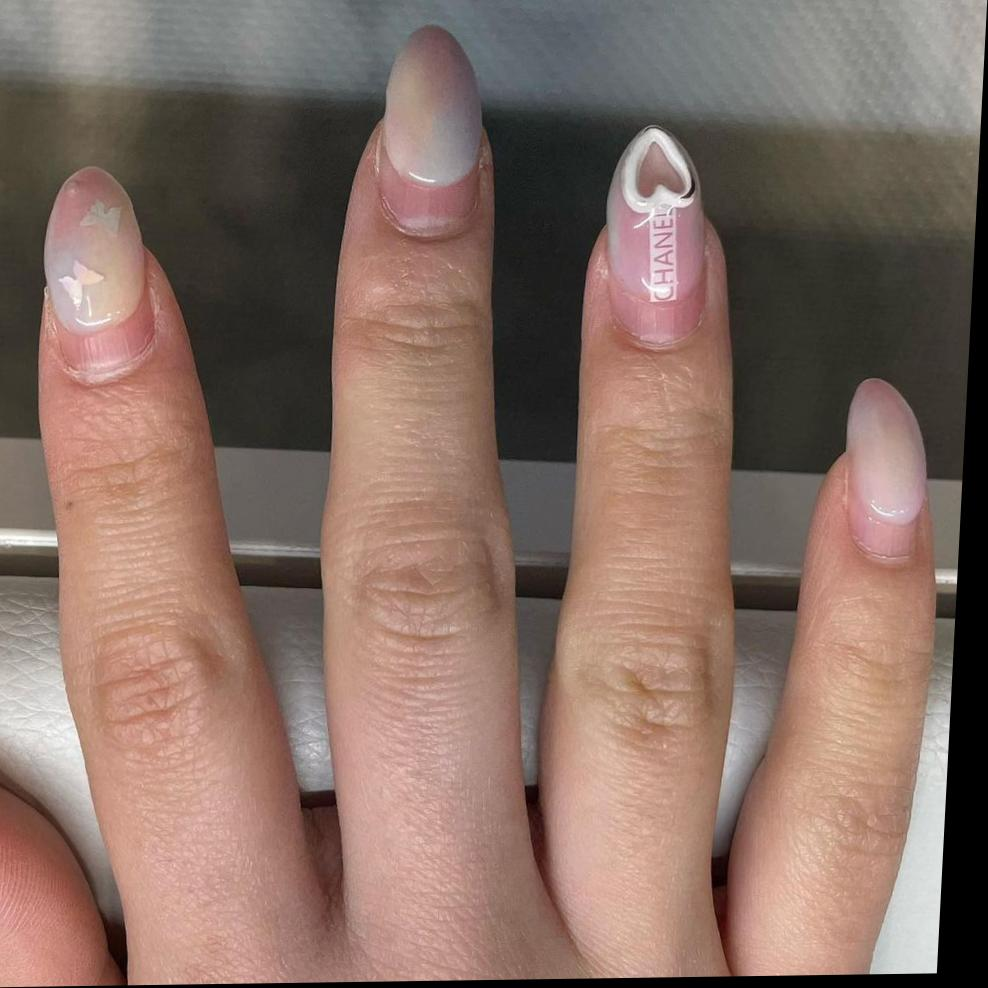nail: (36, 165, 168, 384), (598, 124, 718, 352), (371, 25, 492, 241), (838, 377, 935, 565)
